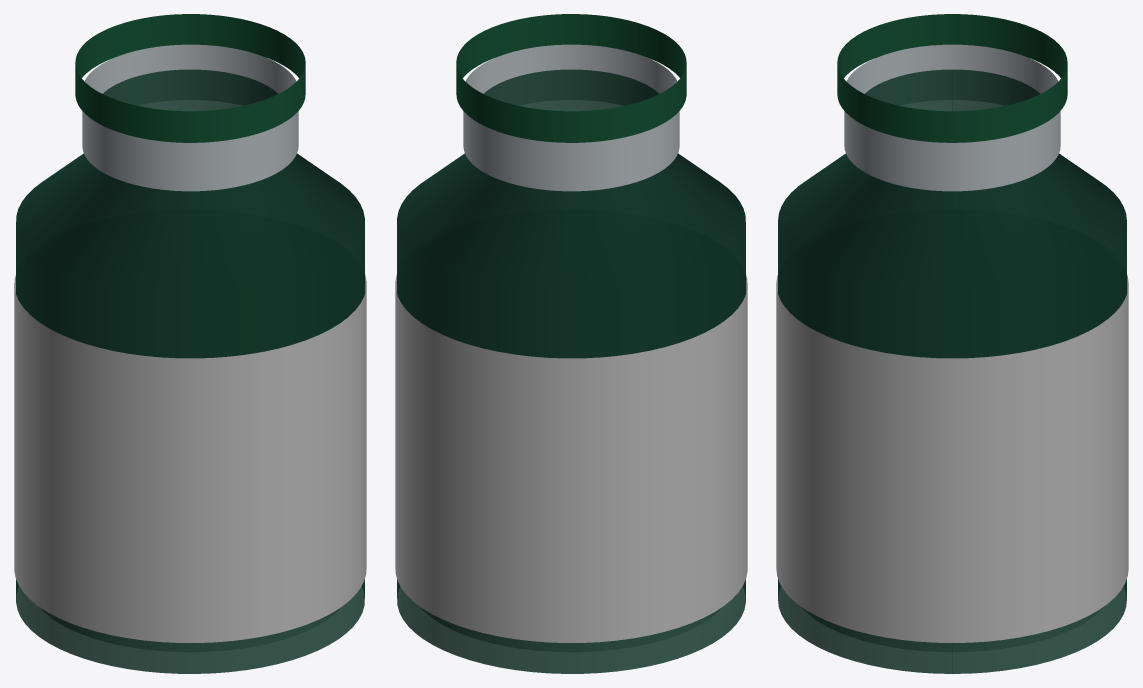
Rendered from retatrutide_vial.obj.
3 renders of one model, left to right at view 1: azimuth 30°, elevation 25°; view 2: azimuth 150°, elevation 25°; view 3: azimuth 270°, elevation 25°, orthographic.
Visible parts, largest first — view 1: VialLabel, GlassBody, GlassShoulder, SilverCrimpRing, GreenFlipCap, GlassNeck, LyophilizedPowder; view 2: VialLabel, GlassBody, GlassShoulder, SilverCrimpRing, GreenFlipCap, GlassNeck, LyophilizedPowder; view 3: VialLabel, GlassBody, GlassShoulder, SilverCrimpRing, GreenFlipCap, GlassNeck, LyophilizedPowder.
Part boxes in pixels (left/top/right/bottom): VialLabel: left=14, top=274, right=366, bottom=642; GlassBody: left=16, top=219, right=364, bottom=673; GlassShoulder: left=16, top=153, right=364, bottom=294; SilverCrimpRing: left=82, top=44, right=298, bottom=191; GreenFlipCap: left=75, top=14, right=305, bottom=142; GlassNeck: left=100, top=69, right=280, bottom=197; LyophilizedPowder: left=42, top=609, right=335, bottom=651; VialLabel: left=395, top=274, right=747, bottom=642; GlassBody: left=397, top=219, right=745, bottom=673; GlassShoulder: left=397, top=153, right=745, bottom=294; SilverCrimpRing: left=463, top=44, right=679, bottom=191; GreenFlipCap: left=456, top=14, right=686, bottom=142; GlassNeck: left=481, top=69, right=661, bottom=197; LyophilizedPowder: left=431, top=609, right=719, bottom=651; VialLabel: left=776, top=275, right=1128, bottom=642; GlassBody: left=778, top=222, right=1126, bottom=673; GlassShoulder: left=778, top=153, right=1126, bottom=294; SilverCrimpRing: left=844, top=44, right=1060, bottom=191; GreenFlipCap: left=837, top=14, right=1067, bottom=142; GlassNeck: left=862, top=69, right=1042, bottom=197; LyophilizedPowder: left=807, top=610, right=1099, bottom=651.
Bounding box in the file's own units: 2.02 × 3.4 × 2.02.
